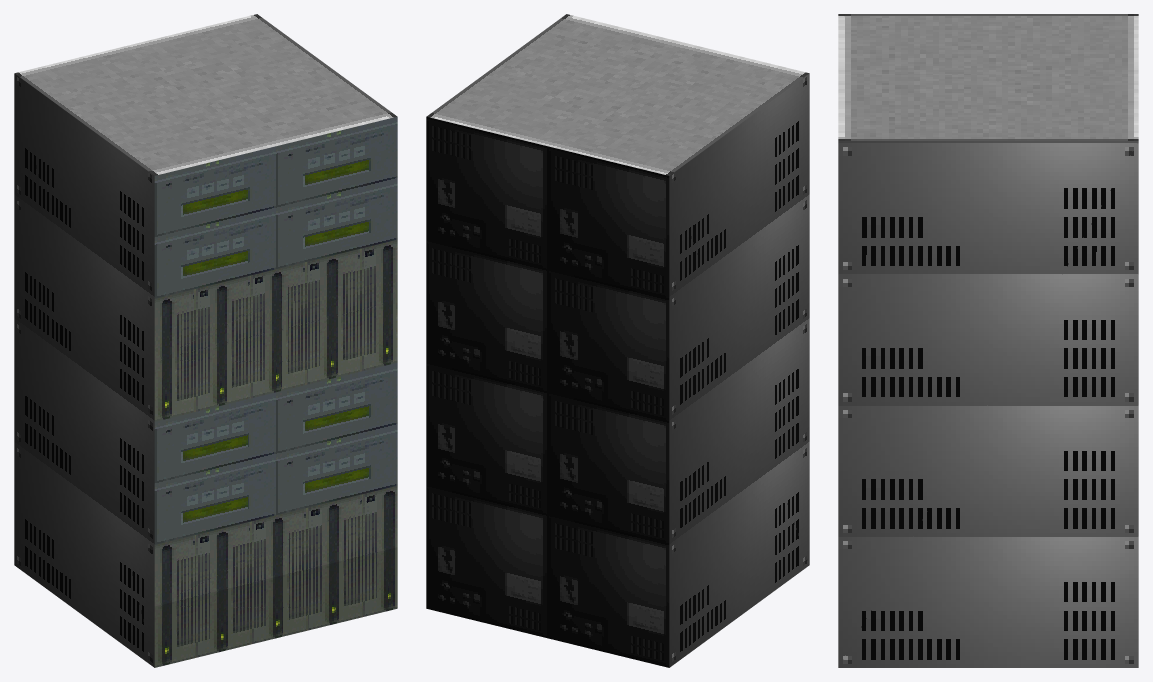
File: primary_067.glb
The picture shows the model from 3 angles, left to right: view 1: azimuth 30°, elevation 25°; view 2: azimuth 150°, elevation 25°; view 3: azimuth 270°, elevation 25°; orthographic projection. The views are drawn at different scales.
Parts seen in each view (by area): view 1: Object; view 2: Object; view 3: Object.
Part boxes in pixels (x1,y1,x2,y2): Object: (14, 14, 397, 667); Object: (426, 14, 809, 667); Object: (838, 14, 1138, 667).
Size of the model in its own units: 1.06 by 2.05 by 1.06.
9 materials, 9 textured.
